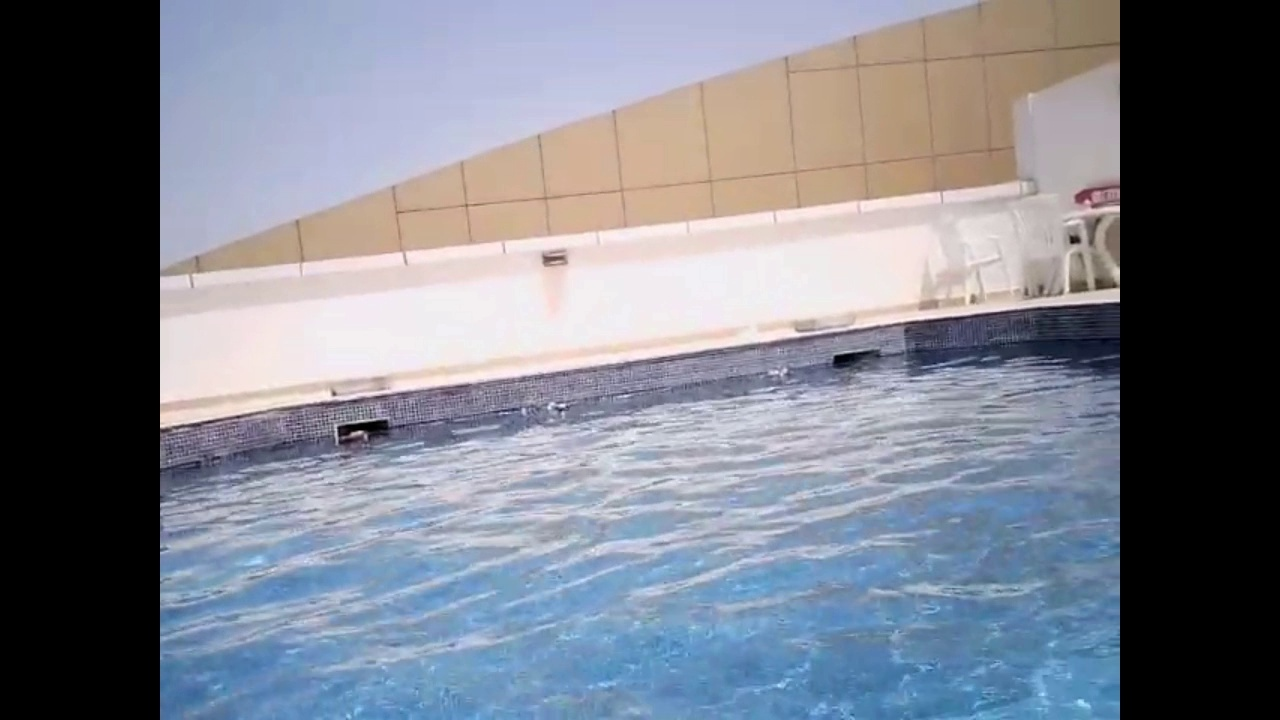debris: (338, 427, 375, 450), (760, 362, 794, 385), (542, 398, 571, 415)
